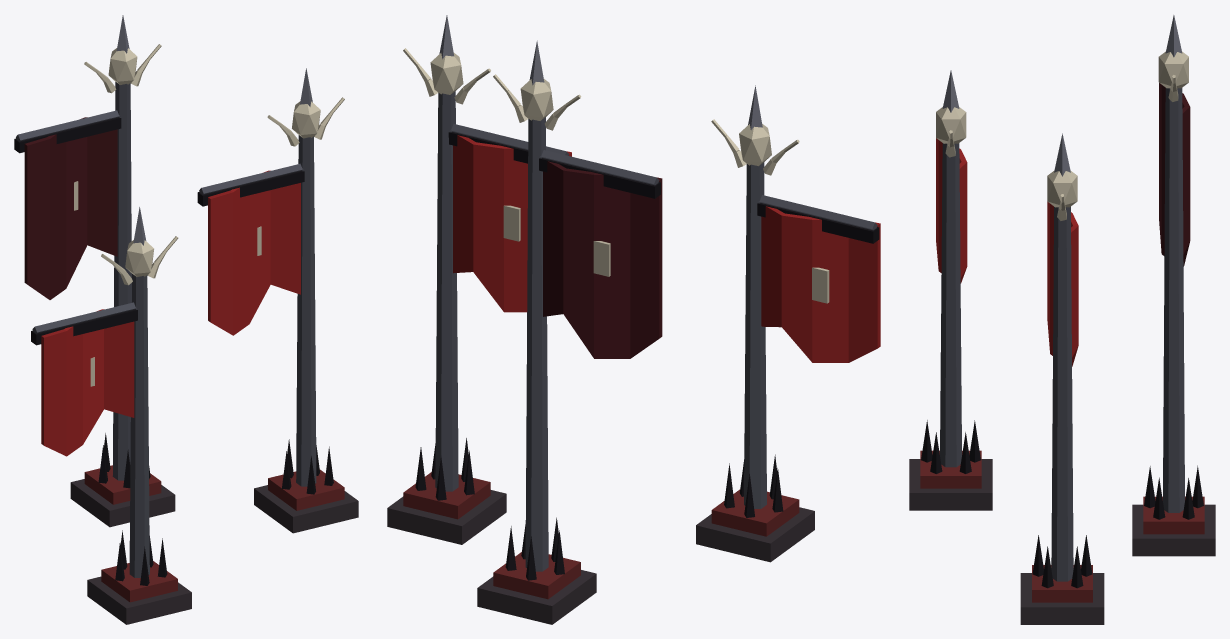
Rendered from Decor_HellGate_WarBanners.fbx.
The picture shows the model from 3 angles, left to right: view 1: azimuth 30°, elevation 25°; view 2: azimuth 150°, elevation 25°; view 3: azimuth 270°, elevation 25°; orthographic projection. The views are drawn at different scales.
Parts seen in each view (by area): view 1: WarBanners_Body; view 2: WarBanners_Body; view 3: WarBanners_Body.
Boxes of the visible parts, x1,y1,x2,y2 form: WarBanners_Body: (14,15,358,624); WarBanners_Body: (387,15,880,624); WarBanners_Body: (909,15,1215,624).
Size of the model in its own units: 16.1 by 20.8 by 11.
